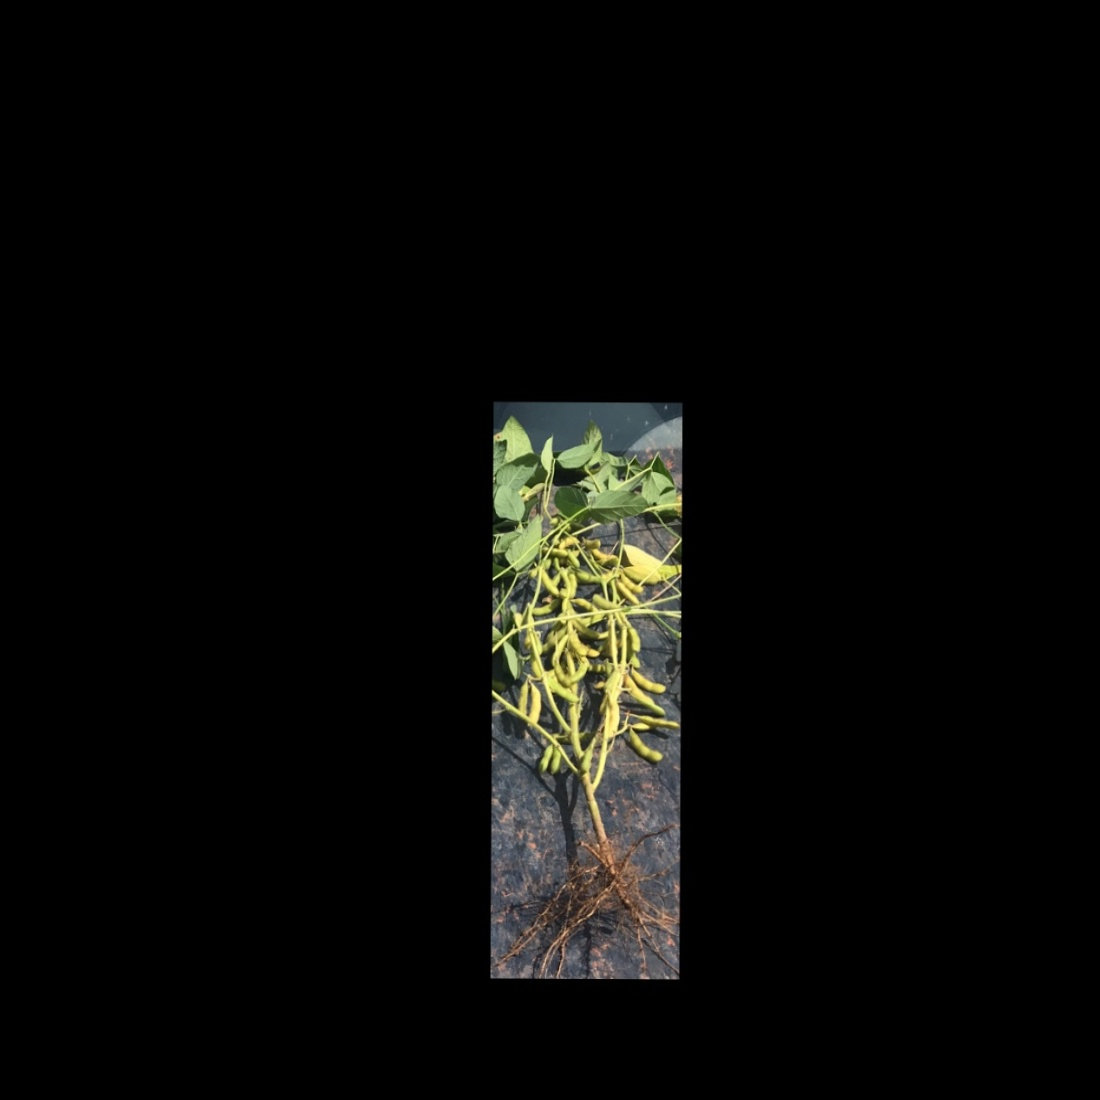pod: (623, 677, 666, 717), (625, 726, 665, 766), (541, 670, 579, 705), (629, 666, 668, 696), (628, 710, 680, 729), (536, 565, 561, 602), (526, 596, 565, 618), (611, 578, 640, 605), (536, 740, 554, 777), (617, 571, 644, 595), (514, 678, 528, 717), (552, 662, 570, 688), (550, 742, 562, 777), (579, 745, 594, 773)
soy: (492, 426, 678, 970)
